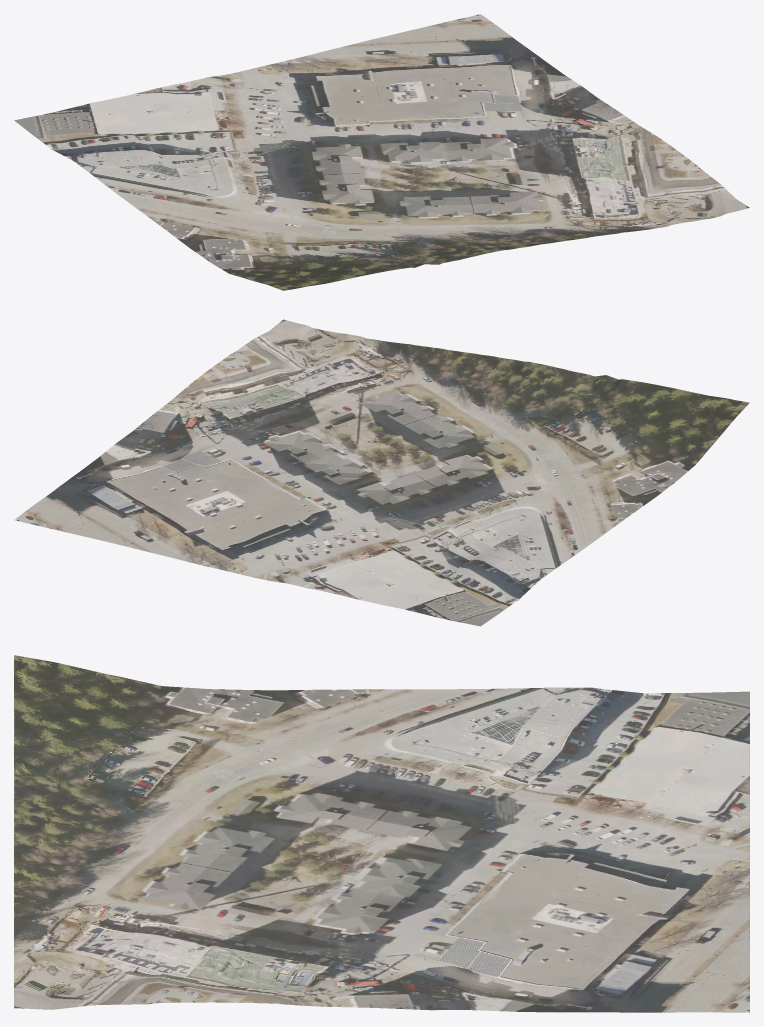
The model's file is CM_Terrain_24489844_6820408.fbx.
3 renders of one model, top to bottom at view 1: azimuth 30°, elevation 25°; view 2: azimuth 150°, elevation 25°; view 3: azimuth 270°, elevation 25°, orthographic. The views are drawn at different scales.
Parts seen in each view (by area): view 1: CM_Terrain_24489844_6820408_LOD0; view 2: CM_Terrain_24489844_6820408_LOD0; view 3: CM_Terrain_24489844_6820408_LOD0.
Boxes of the visible parts, bbox=[...] form: CM_Terrain_24489844_6820408_LOD0: bbox=[14, 14, 749, 290]; CM_Terrain_24489844_6820408_LOD0: bbox=[14, 319, 749, 626]; CM_Terrain_24489844_6820408_LOD0: bbox=[14, 655, 749, 1012].
Size of what is drawn, in the model's own units: 205 by 15.73 by 205.
